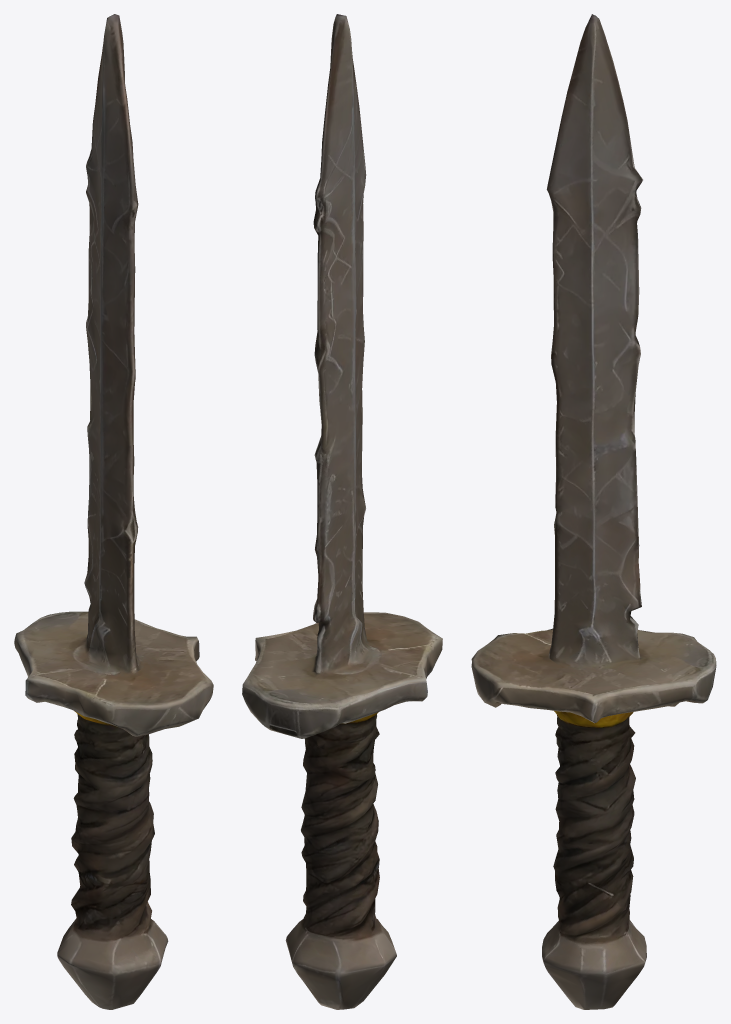
File: wpn_irondagger.glb
The picture shows the model from 3 angles, left to right: view 1: azimuth 30°, elevation 25°; view 2: azimuth 150°, elevation 25°; view 3: azimuth 270°, elevation 25°; orthographic projection.
Parts seen in each view (by area): view 1: tripo_node_c3945215-f7c3-4e1f-927b-58d44fc73c1b; view 2: tripo_node_c3945215-f7c3-4e1f-927b-58d44fc73c1b; view 3: tripo_node_c3945215-f7c3-4e1f-927b-58d44fc73c1b.
Part boxes in pixels (left/top/right/bottom): tripo_node_c3945215-f7c3-4e1f-927b-58d44fc73c1b: left=14, top=14, right=213, bottom=1009; tripo_node_c3945215-f7c3-4e1f-927b-58d44fc73c1b: left=242, top=14, right=442, bottom=1009; tripo_node_c3945215-f7c3-4e1f-927b-58d44fc73c1b: left=471, top=14, right=716, bottom=1009.
Bounding box in the file's own units: 0.1833 × 0.9999 × 0.2247.
1 material, 1 textured.
